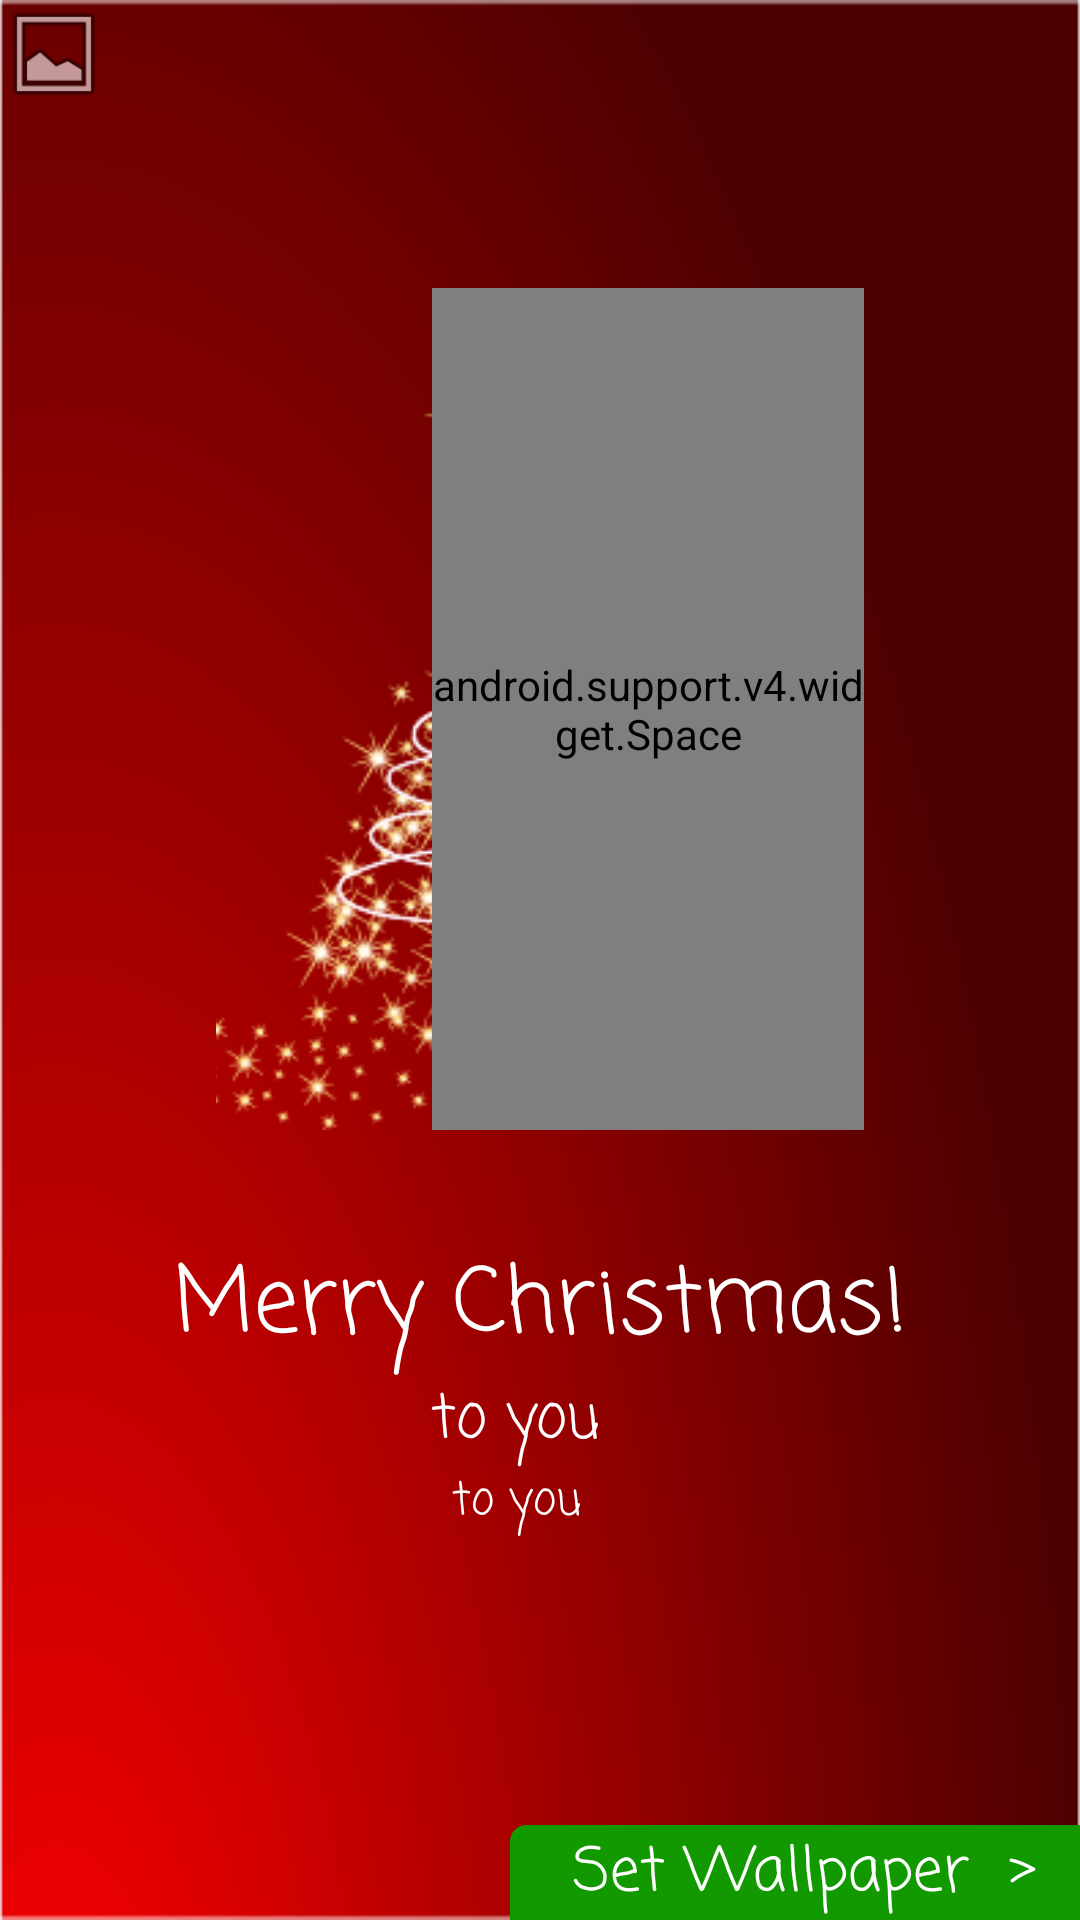

Locate icon controls on the screen. Image size 1080*1920, boxes as (x1, y1, x2, y2).
gallery: (13, 13, 95, 95)
